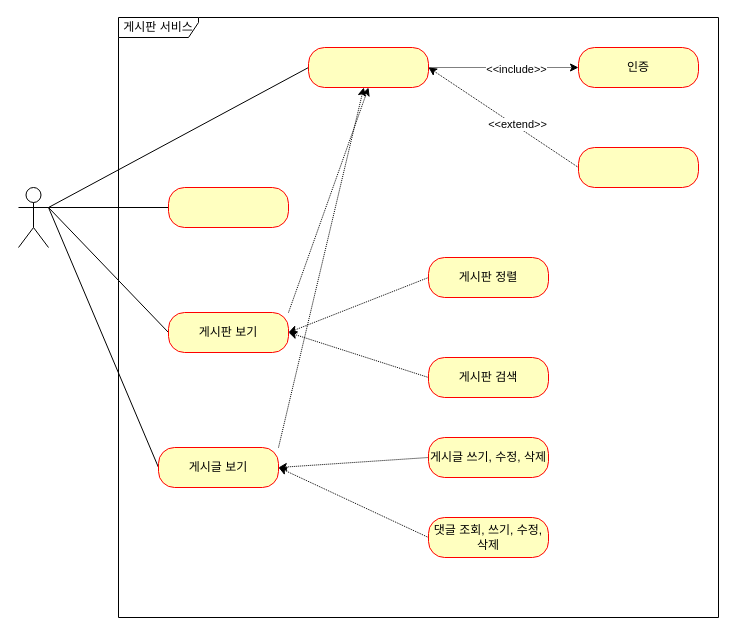
Some shapes in this 736 by 635 pixel diagram are drawn without their labels. The box of each missing label's shape, as (x1, y1, x2, y2) in pixels:
로그인 실패: (578, 146, 698, 188)
사용자: (18, 186, 48, 248)
회원 가입: (168, 186, 288, 228)
회원 로그인: (308, 46, 428, 88)
